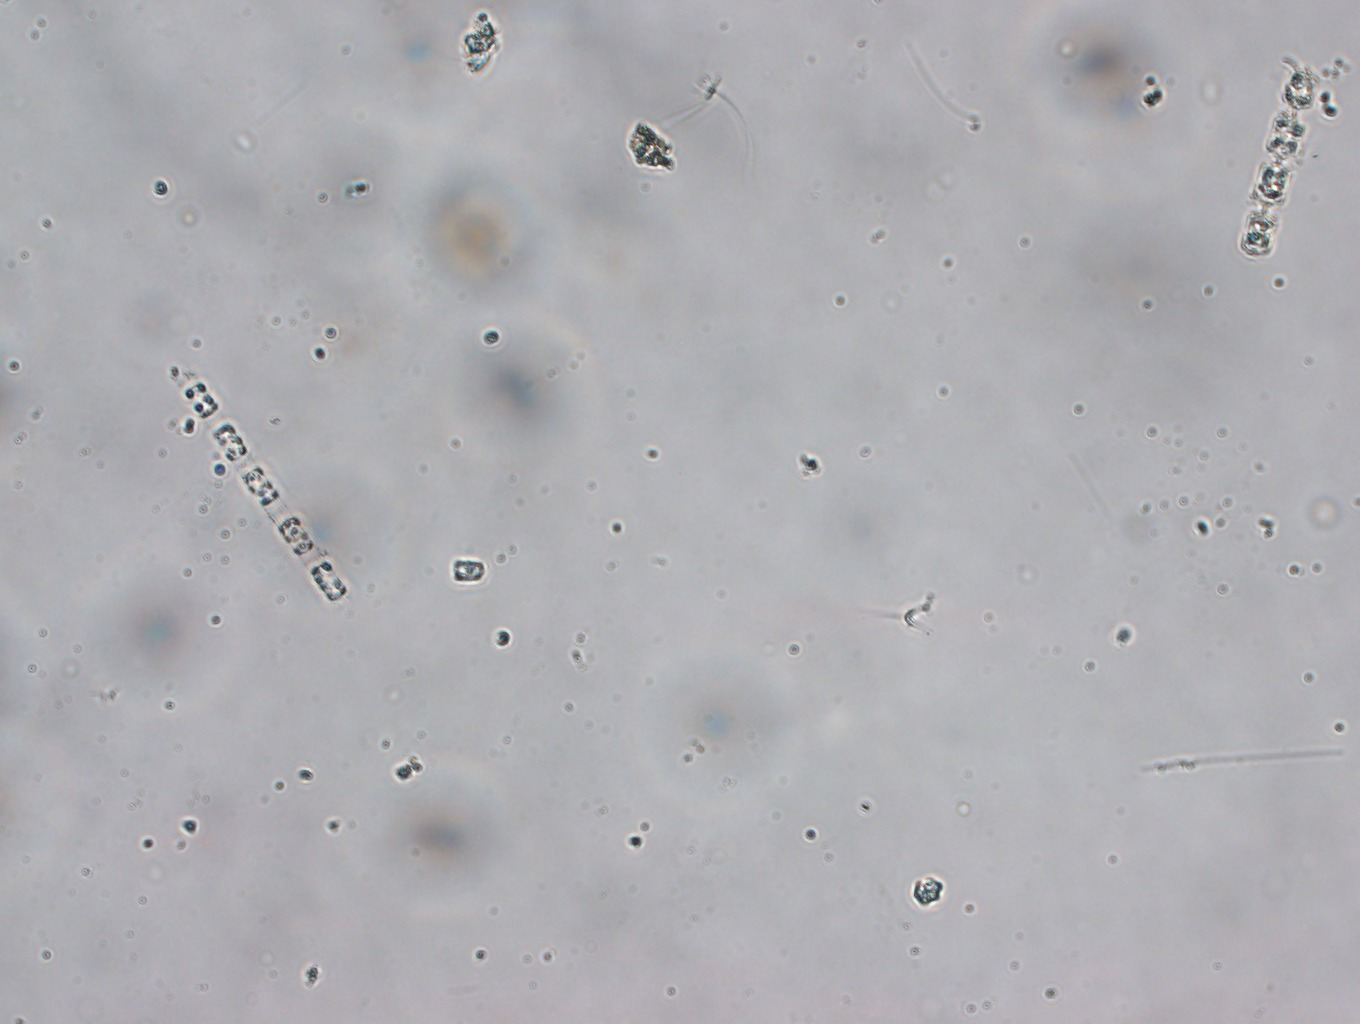chaetoceros: (1236, 56, 1322, 260)
skeletonema: (178, 376, 347, 605)
